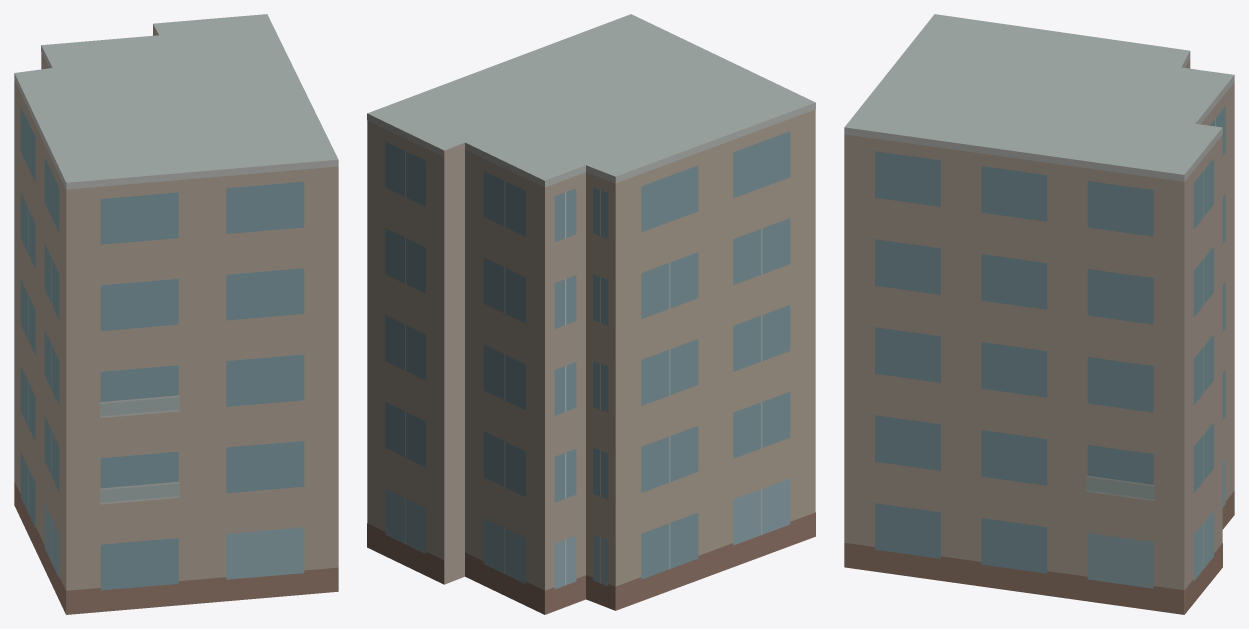
File: survey-upis-32537435.glb
3 views of the same model, side by side, from view 1: azimuth 30°, elevation 25°; view 2: azimuth 150°, elevation 25°; view 3: azimuth 270°, elevation 25° (orthographic).
Visible parts, largest first — view 1: survey-upis-32537435.tmp; view 2: survey-upis-32537435.tmp; view 3: survey-upis-32537435.tmp.
Part boxes in pixels (<box>): survey-upis-32537435.tmp: <box>14,14,338,614</box>; survey-upis-32537435.tmp: <box>367,14,815,614</box>; survey-upis-32537435.tmp: <box>844,14,1234,614</box>.
Size of the model in its own units: 12.17 by 15.5 by 12.47.
